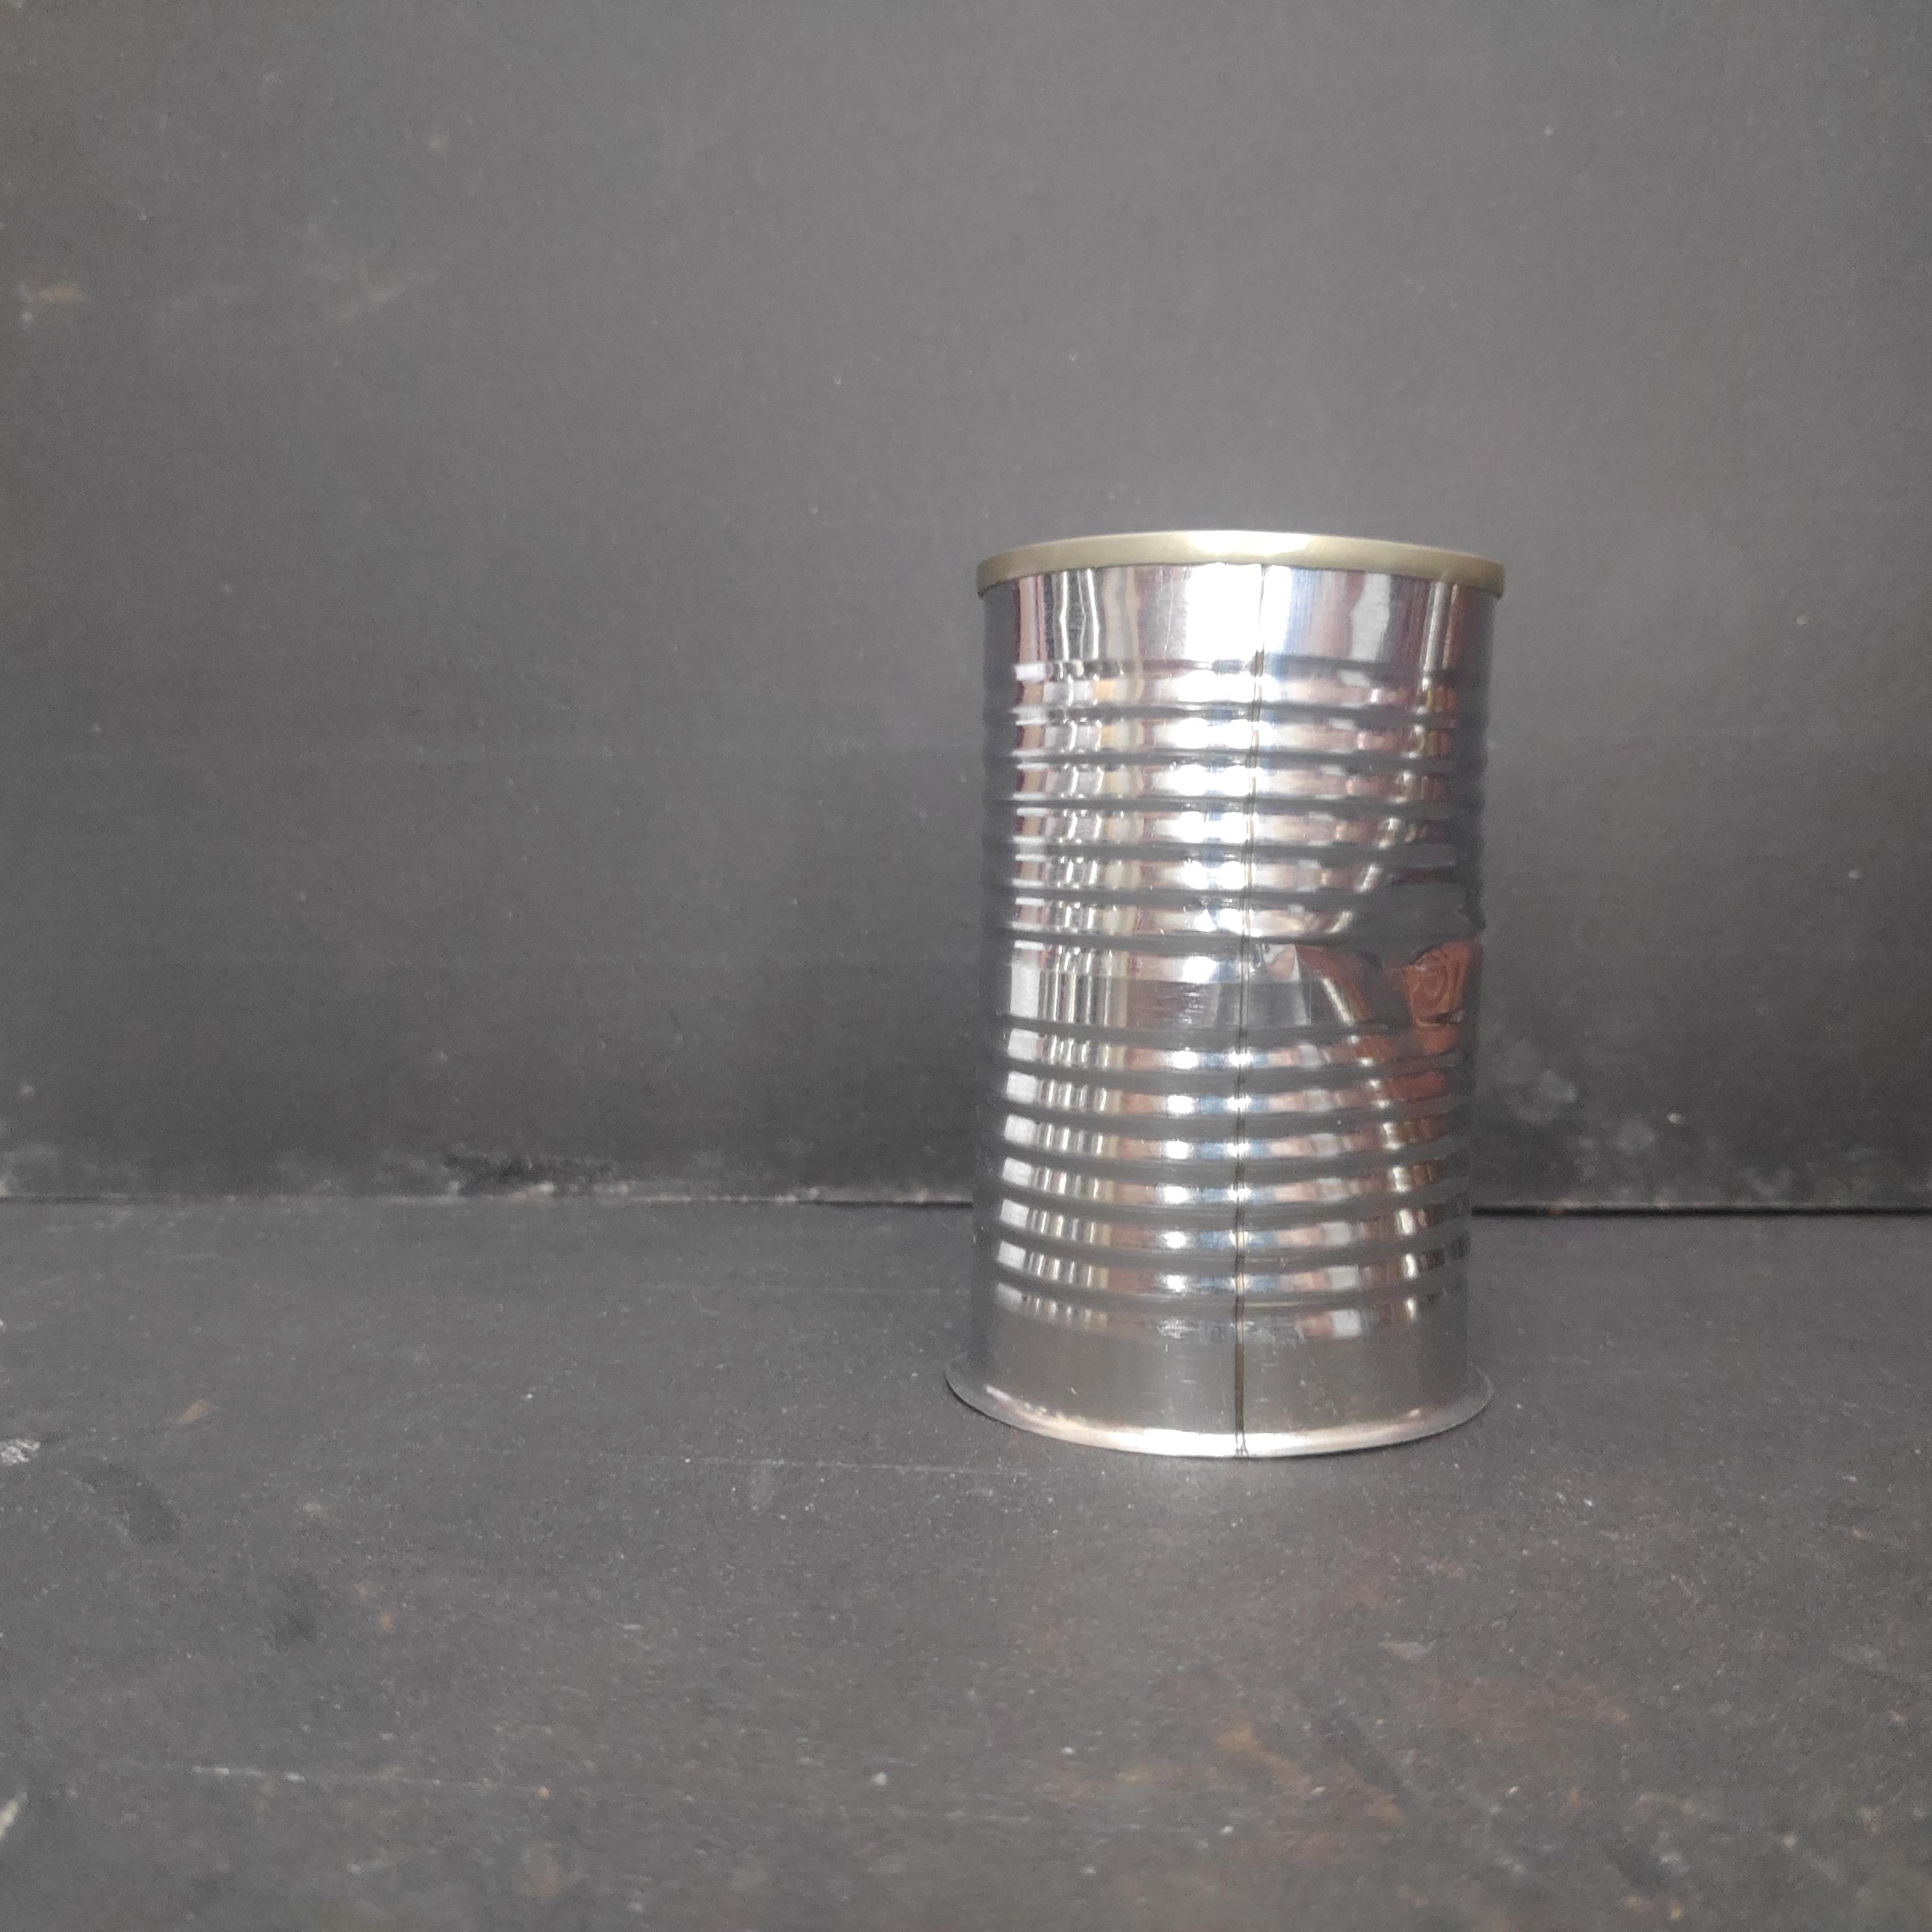Minor Defect: (952, 527, 1511, 1461)
